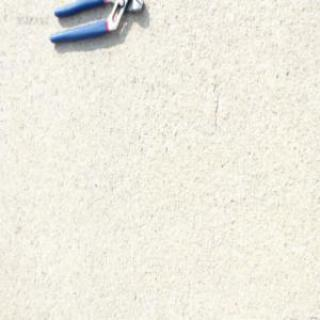Pliertrack_idkeyframe: (48, 0, 143, 47)
